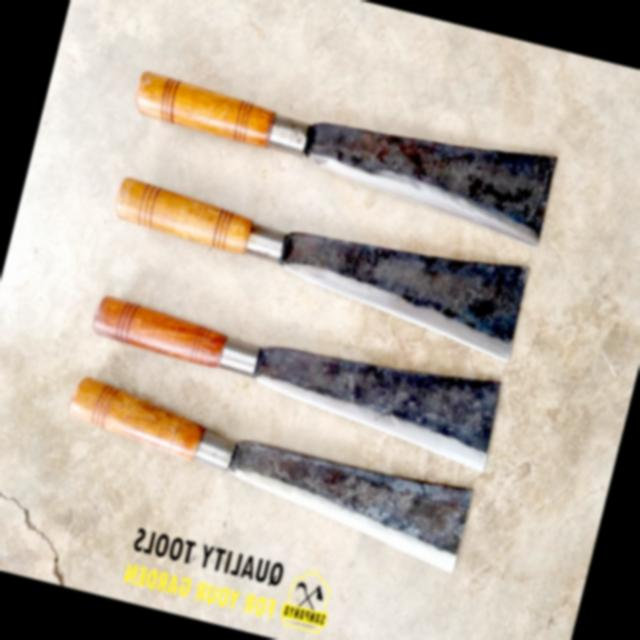eto: (64, 363, 480, 585), (106, 170, 534, 370), (78, 287, 507, 485), (132, 64, 565, 256)
